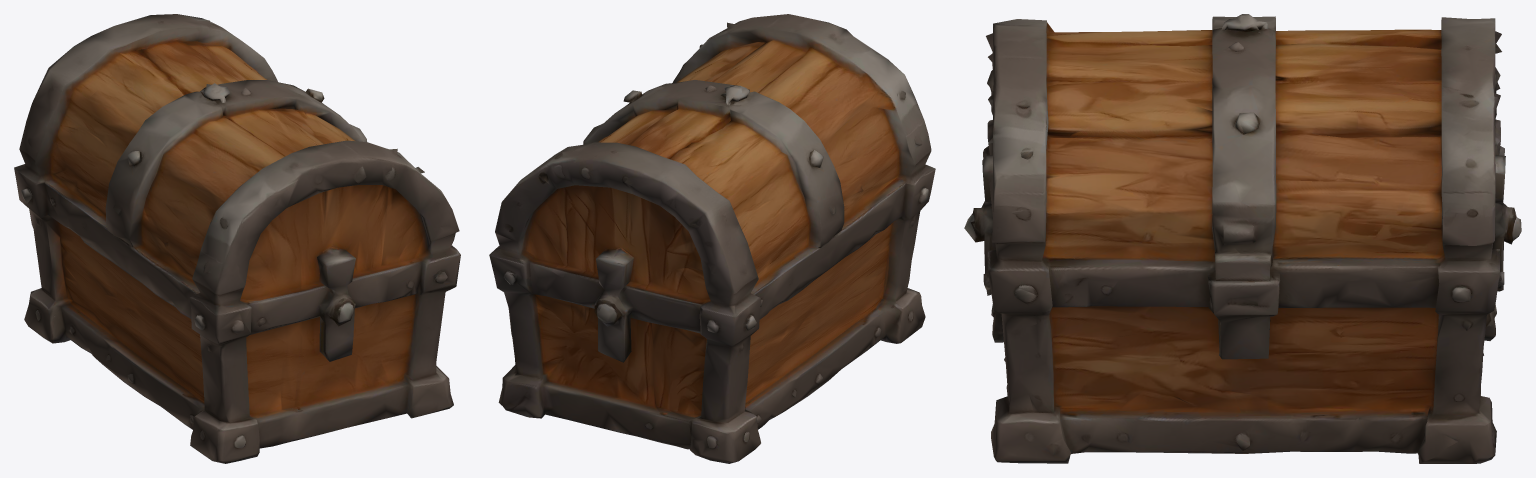
Rendered from chest.glb.
3 views of the same model, side by side, from view 1: azimuth 30°, elevation 25°; view 2: azimuth 150°, elevation 25°; view 3: azimuth 270°, elevation 25° (orthographic). The views are drawn at different scales.
Parts seen in each view (by area): view 1: tripo_node_6e720813-472b-4144-85fa-2ee9ae4d175e; view 2: tripo_node_6e720813-472b-4144-85fa-2ee9ae4d175e; view 3: tripo_node_6e720813-472b-4144-85fa-2ee9ae4d175e.
Part boxes in pixels (<box>): tripo_node_6e720813-472b-4144-85fa-2ee9ae4d175e: <box>14,14,460,463</box>; tripo_node_6e720813-472b-4144-85fa-2ee9ae4d175e: <box>489,14,935,463</box>; tripo_node_6e720813-472b-4144-85fa-2ee9ae4d175e: <box>964,14,1521,463</box>.
Size of the model in its own units: 0.6807 by 0.7197 by 1.
1 material, 1 textured.
